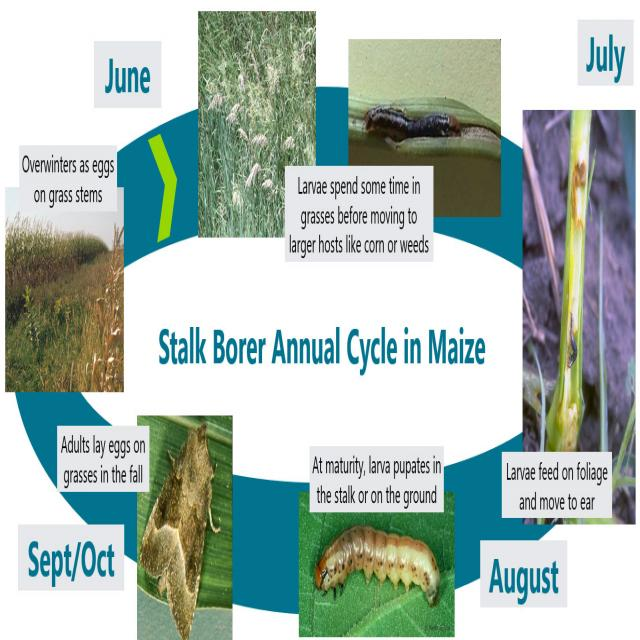cornborer-Larva-: (306, 522, 446, 620)
